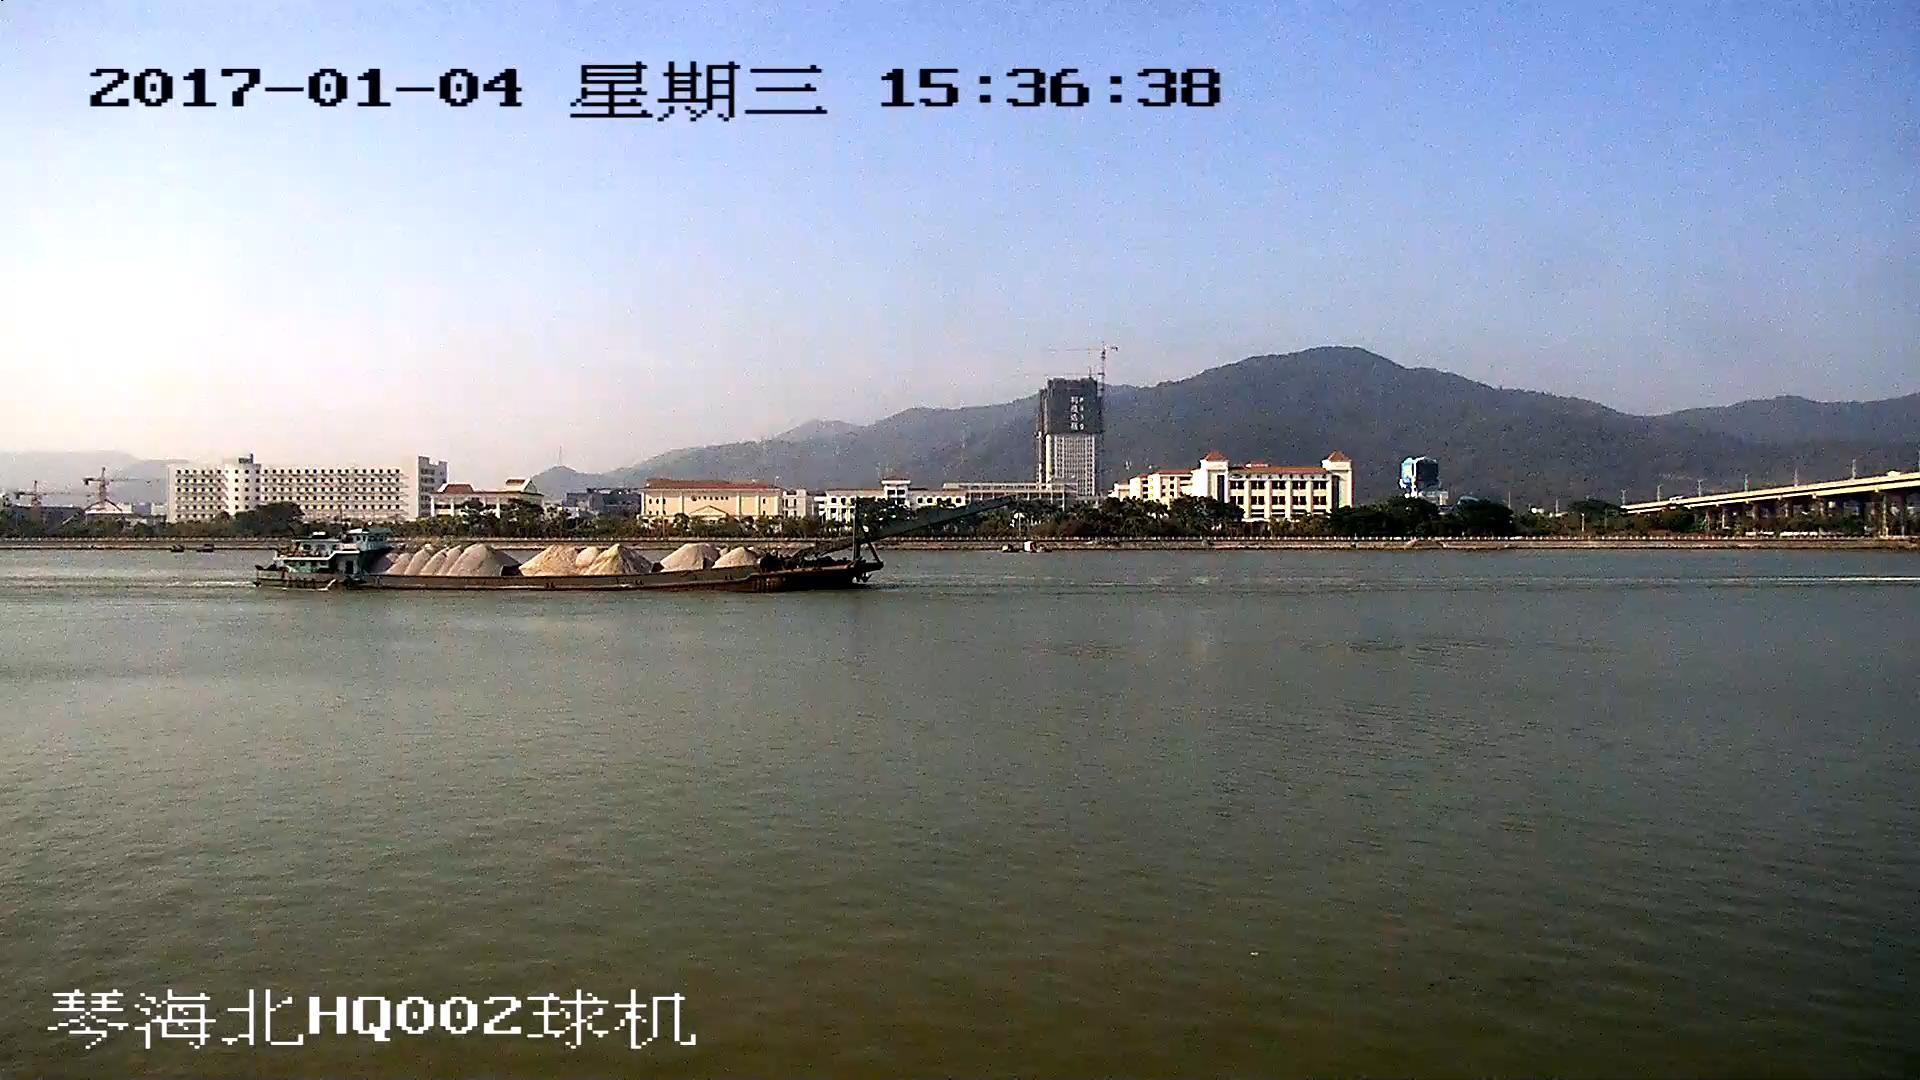Ship: (255, 502, 1011, 589)
